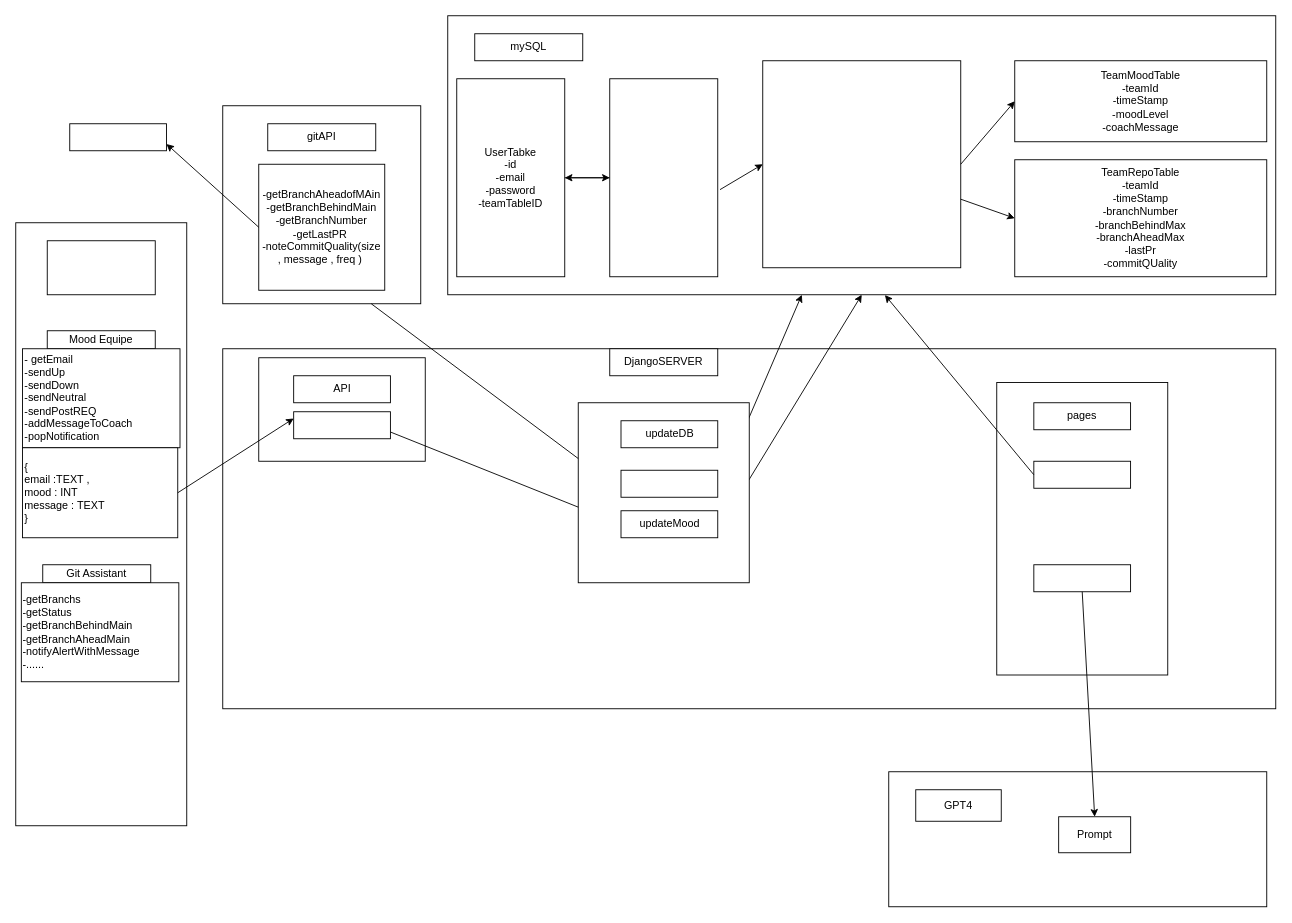
Some shapes in this 1292 by 923 pixel diagram are drawn without their labels. The centre of each missing label's shape, as x and y in pixels:
"-/dashboard" belongs at pixel 1082 474.
"-/questionCoach" belongs at pixel 1082 578.
"-/sendMood" belongs at pixel 341 425.
"Extension Vs Code" belongs at pixel 100 267.
"gitLab" belongs at pixel 117 137.
"TeamCoachTable -CoachId -TeamId" belongs at pixel 663 177.
"TeamTable -teamName -teamId -teamGitlabAccessToken" belongs at pixel 861 164.
"updateTeamRepo" belongs at pixel 669 483.
